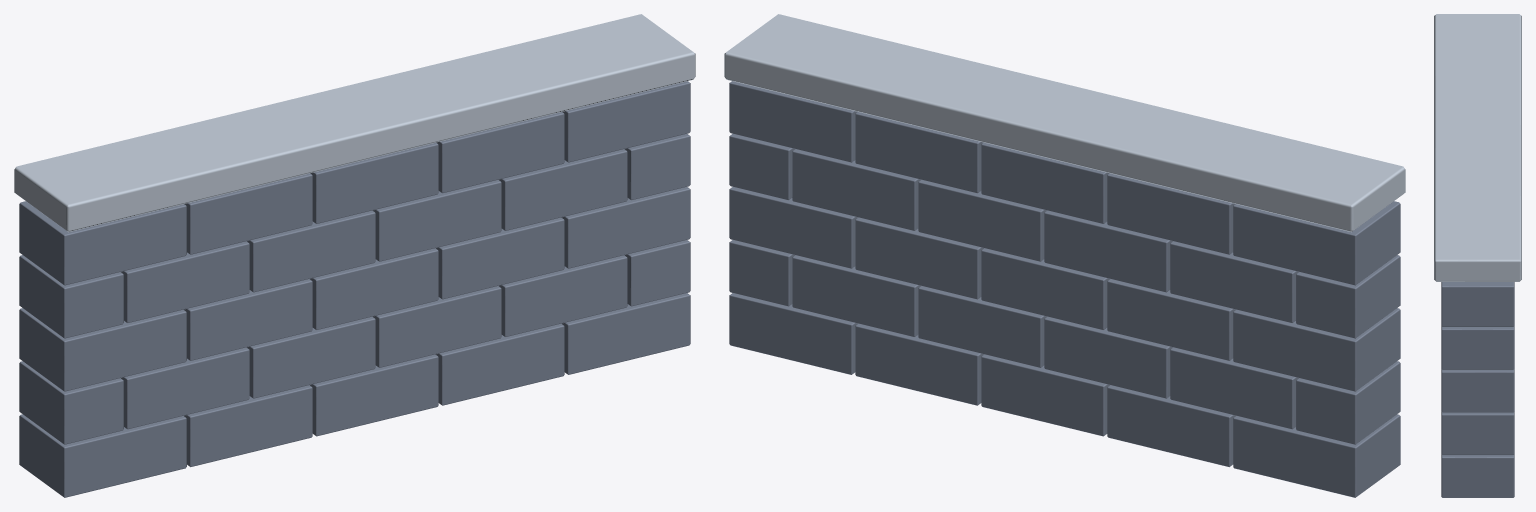
File: 砖砌矮墙-lite.glb
3 views of the same model, side by side, from view 1: azimuth 30°, elevation 25°; view 2: azimuth 150°, elevation 25°; view 3: azimuth 270°, elevation 25° (orthographic). The views are drawn at different scales.
Parts seen in each view (by area): view 1: garden-low-wall-brick; view 2: garden-low-wall-brick; view 3: garden-low-wall-brick.
Part boxes in pixels (x1=…): garden-low-wall-brick: x1=14, y1=14, x2=695, y2=497; garden-low-wall-brick: x1=724, y1=14, x2=1405, y2=497; garden-low-wall-brick: x1=1434, y1=14, x2=1521, y2=497.
Size of the model in its own units: 2 by 0.9 by 0.2999.
